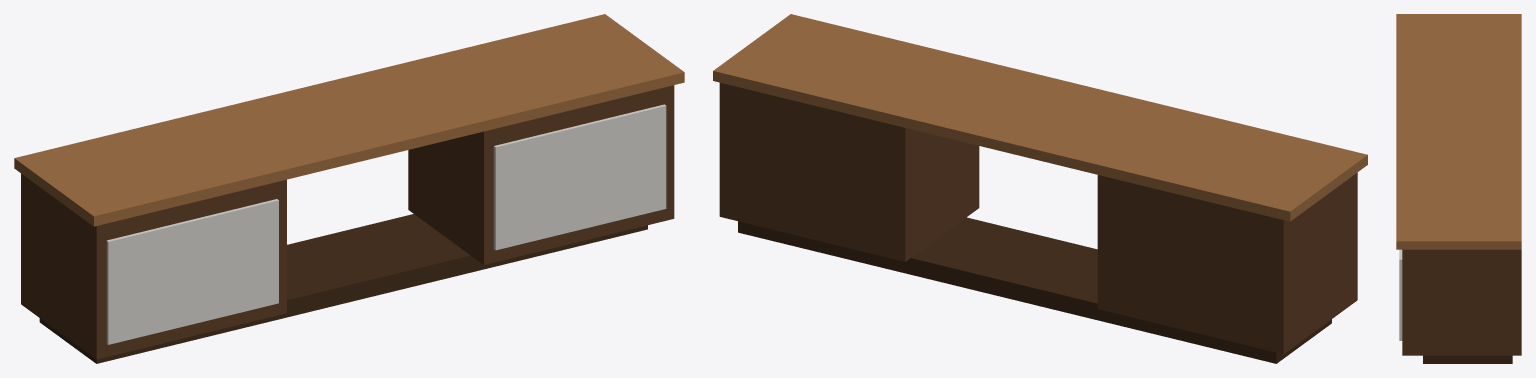
File: tvstand-lite.glb
3 renders of one model, left to right at view 1: azimuth 30°, elevation 25°; view 2: azimuth 150°, elevation 25°; view 3: azimuth 270°, elevation 25°, orthographic. The views are drawn at different scales.
Parts seen in each view (by area): view 1: material-3-top, material-2-drawer, material-0-body, material-1-base; view 2: material-0-body, material-3-top, material-1-base; view 3: material-3-top, material-0-body, material-1-base, material-2-drawer.
Part boxes in pixels (x1,y1,x2,y2): material-3-top: (14, 14, 684, 226); material-2-drawer: (106, 104, 666, 344); material-0-body: (21, 85, 674, 359); material-1-base: (39, 214, 647, 363); material-0-body: (719, 82, 1357, 354); material-3-top: (713, 14, 1367, 221); material-1-base: (738, 217, 1331, 363); material-3-top: (1396, 14, 1521, 249); material-0-body: (1402, 249, 1521, 355); material-1-base: (1423, 355, 1512, 363); material-2-drawer: (1399, 249, 1402, 340).
Bounding box in the file's own units: 1.8 × 0.48 × 0.42.
